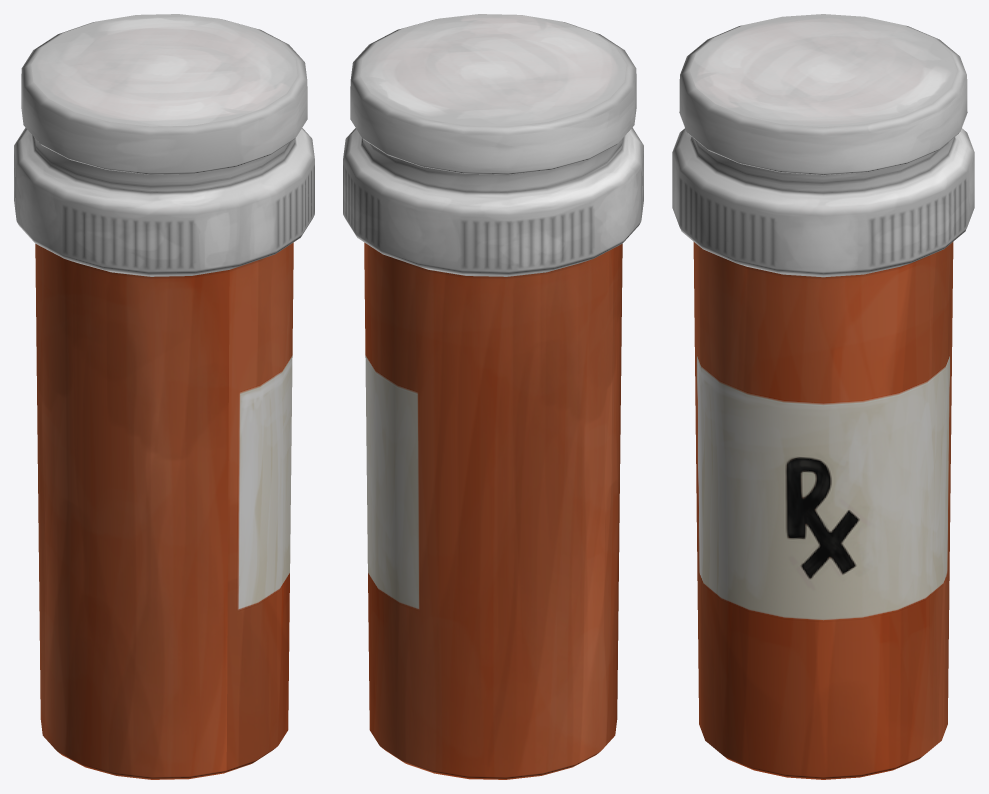
File: medicine_d83f35ad19e8.glb
3 renders of one model, left to right at view 1: azimuth 30°, elevation 25°; view 2: azimuth 150°, elevation 25°; view 3: azimuth 270°, elevation 25°, orthographic.
Visible parts, largest first — view 1: node_id33_1; view 2: node_id33_1; view 3: node_id33_1.
Boxes of the visible parts, x1,y1,x2,y2 form: node_id33_1: (14,14,314,779); node_id33_1: (343,14,643,779); node_id33_1: (672,14,974,779).
Size of the model in its own units: 0.2126 by 0.512 by 0.2126.
Materials: 1 (1 with a texture image).
